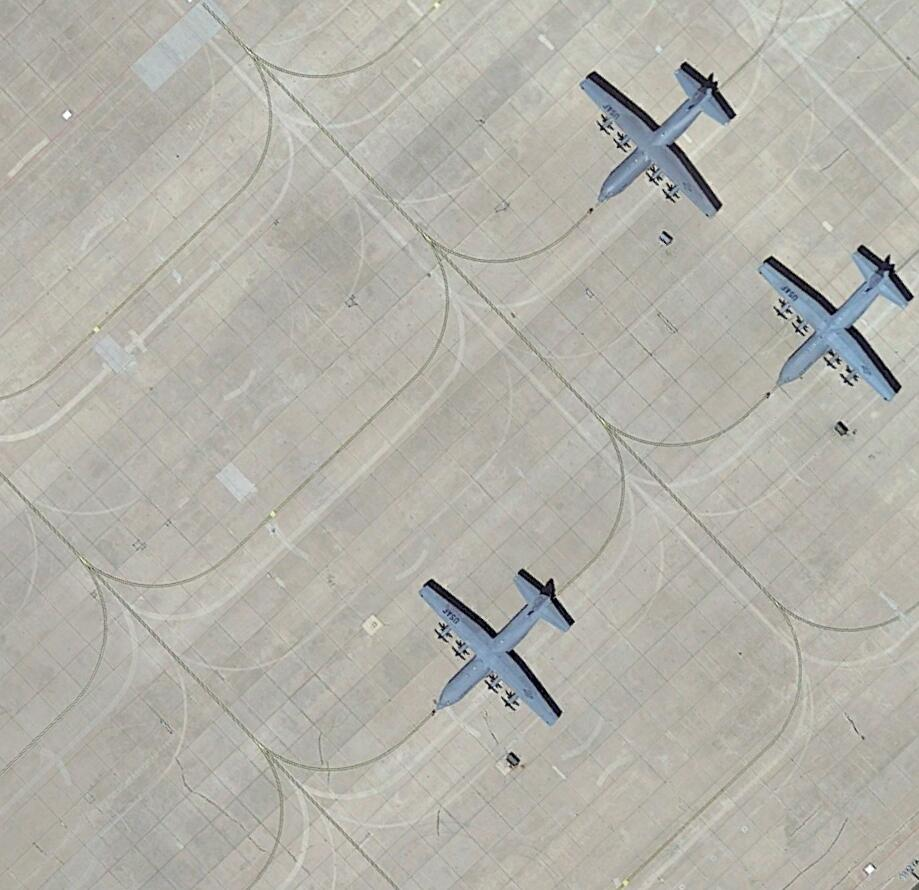A2: (414, 554, 577, 737), (752, 237, 919, 412), (577, 52, 740, 226)
